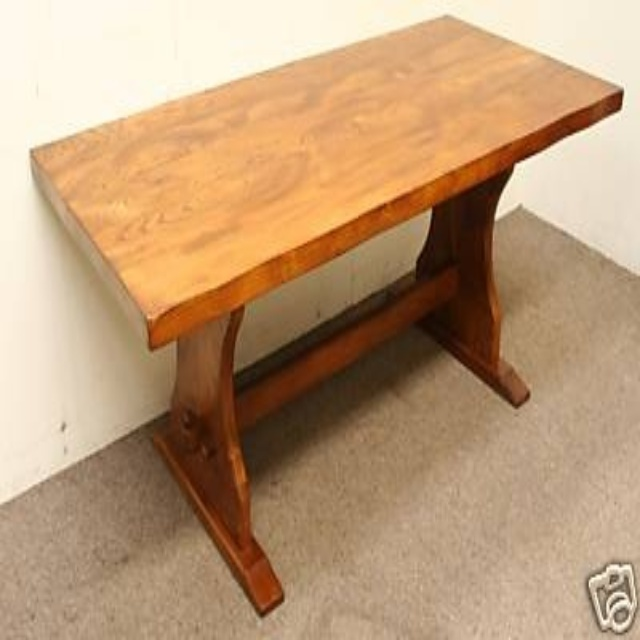obstacle: (30, 18, 621, 612)
